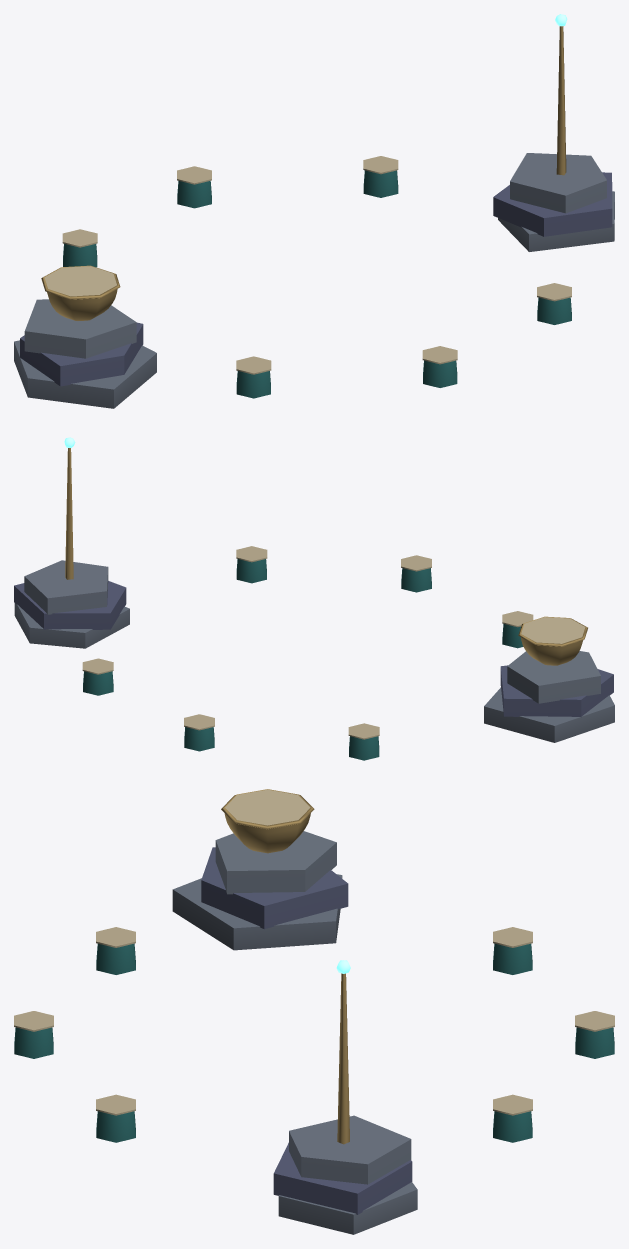
Rendered from landmark-r2-storm-drum-far.glb.
3 views of the same model, one above another, from view 1: azimuth 30°, elevation 25°; view 2: azimuth 150°, elevation 25°; view 3: azimuth 270°, elevation 25° (orthographic). The views are drawn at different scales.
Visible parts, largest first — view 1: Static_far; view 2: Static_far; view 3: Static_far.
Boxes of the visible parts, x1,y1,x2,y2 form: Static_far: (14, 26, 614, 408); Static_far: (14, 448, 614, 760); Static_far: (14, 789, 614, 1234).
Bounding box in the file's own units: 143 × 45.8 × 103.
